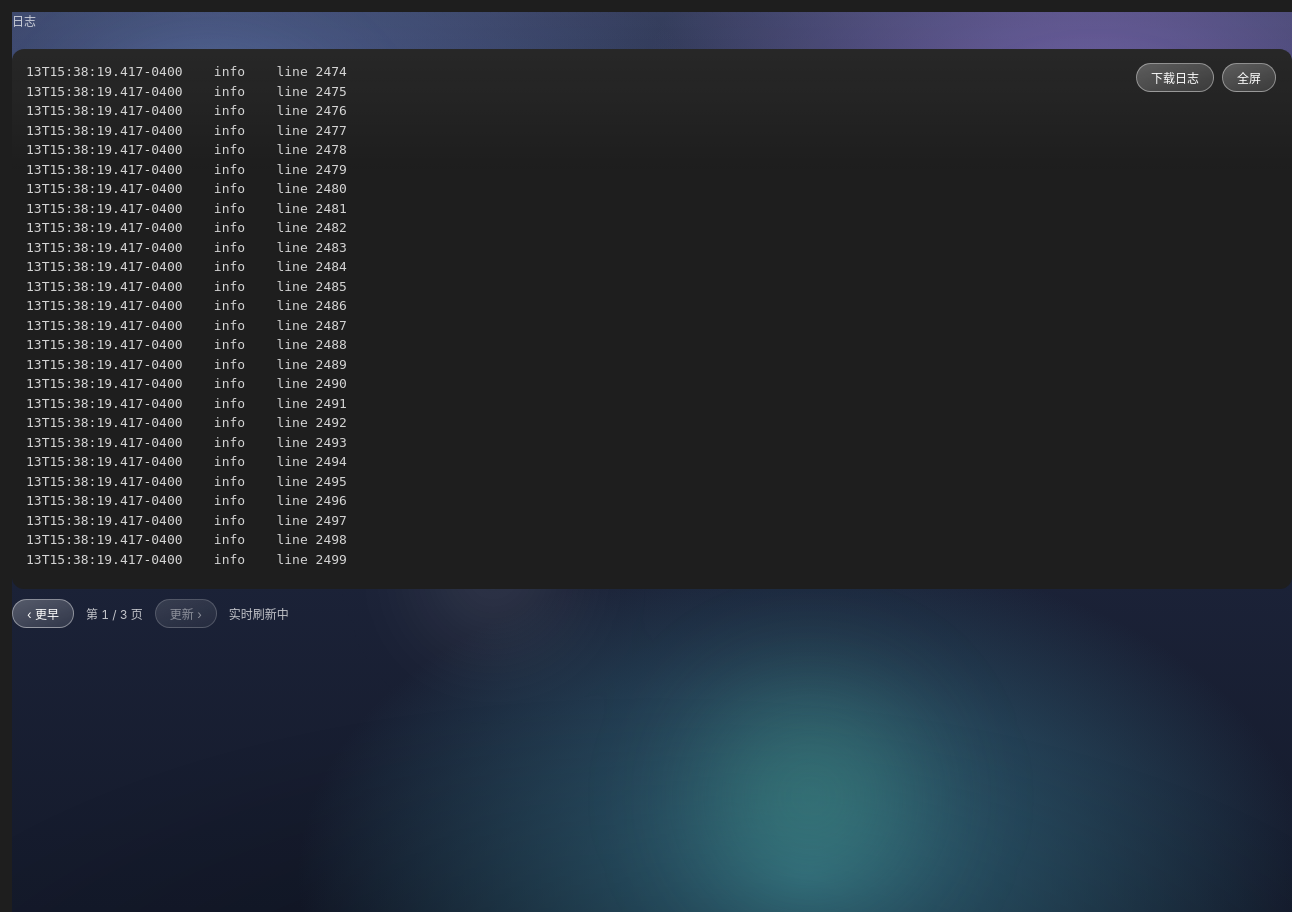
Test: TerminalPanel › returning to page 1 resumes live mode: refetches at once and restarts the timer
The image size is (1292, 912).
(page scrolled)
Click the button with test id "logs-older" at (43, 614), box [12, 599, 74, 628]
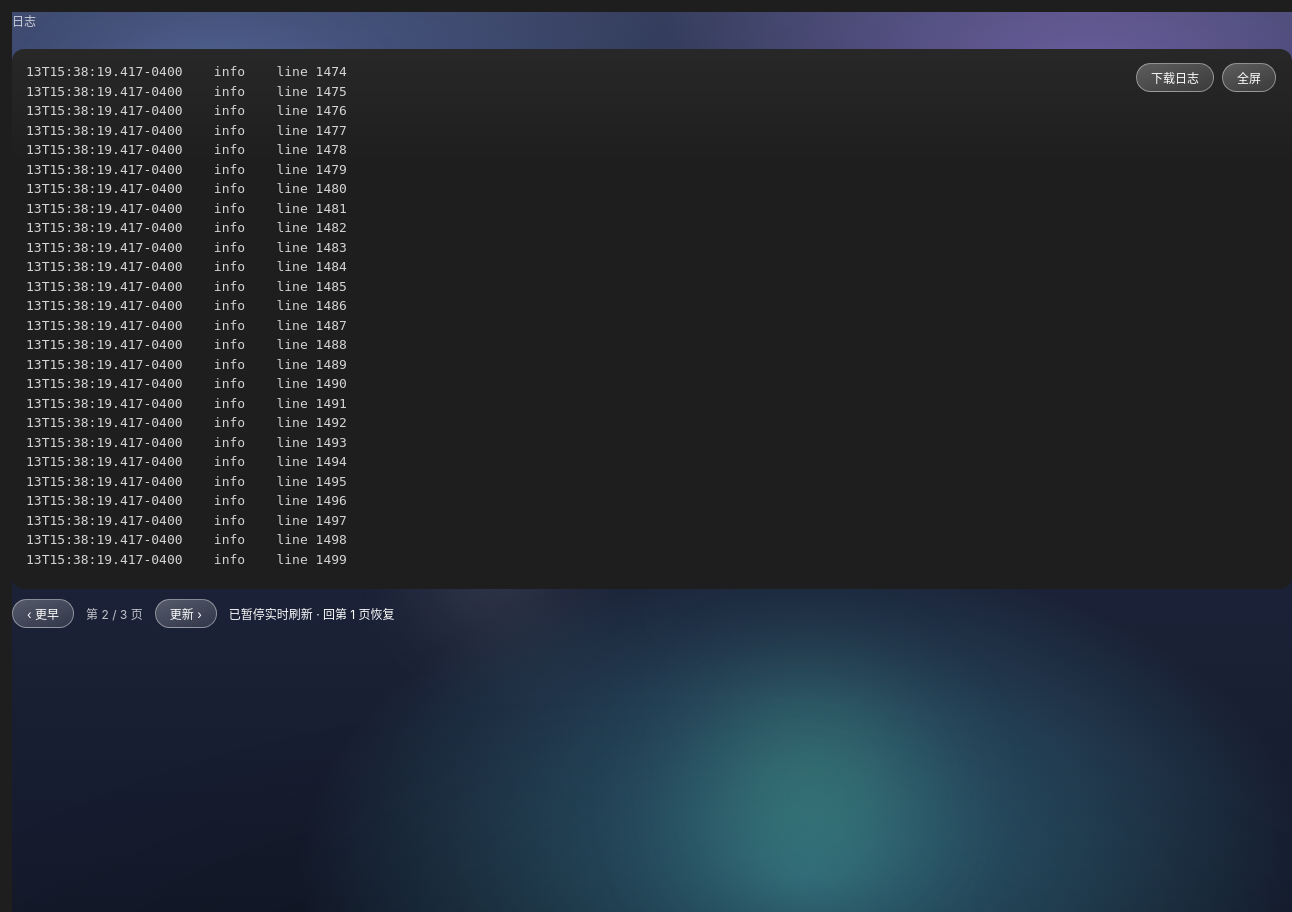
Click the button with test id "logs-newer" at (186, 614), box [155, 599, 217, 628]
Wait 5000 ms
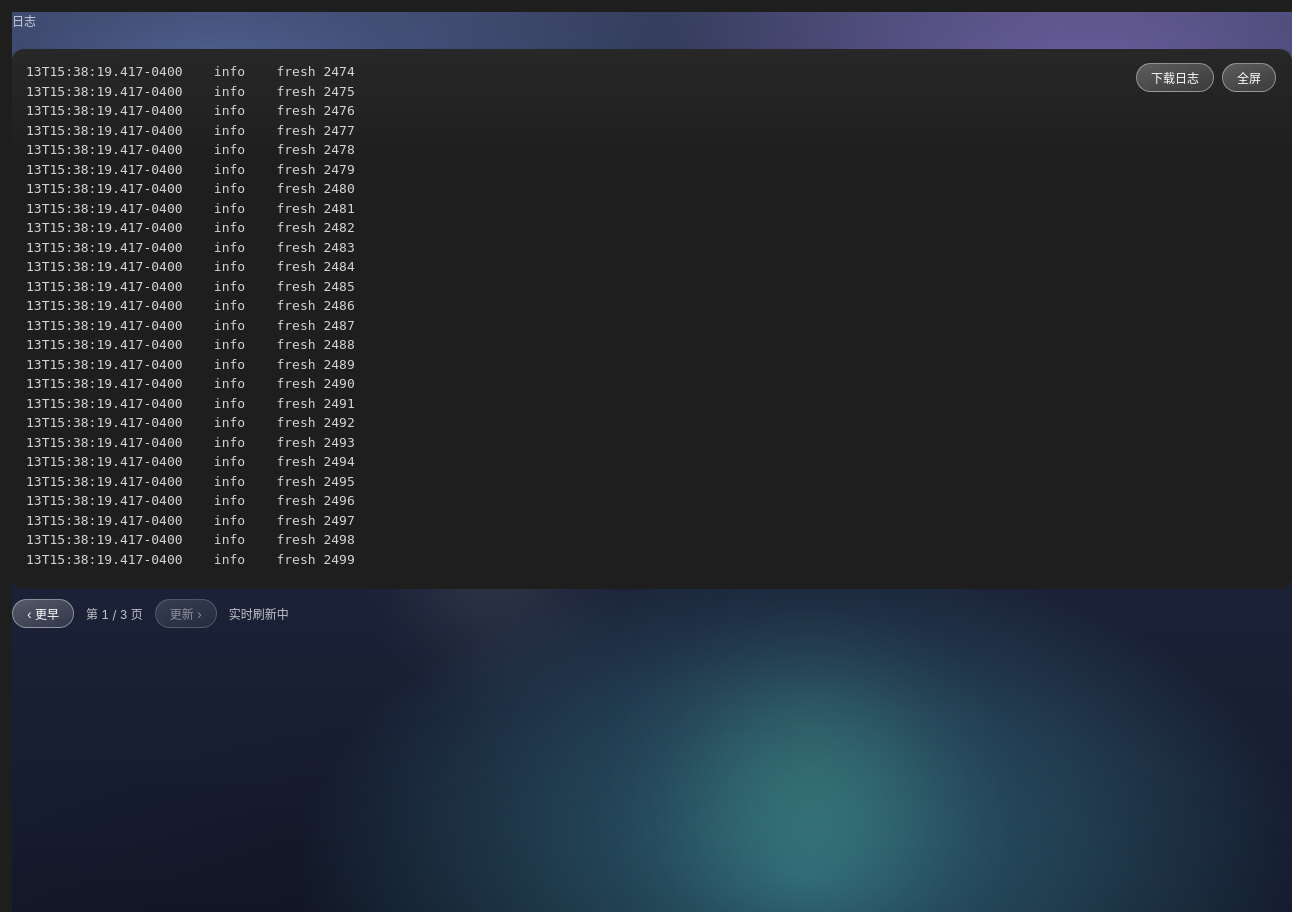
Result: the text "实时刷新中" is shown at [229, 605, 289, 622]
